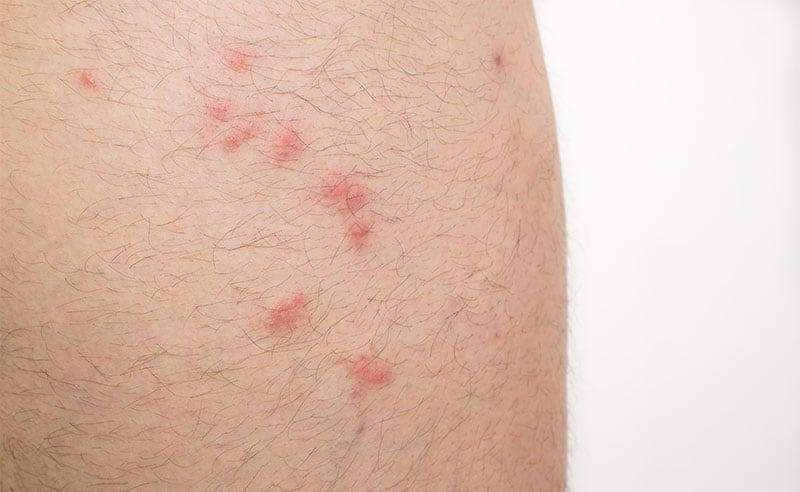Fleas: (312, 164, 374, 225), (260, 286, 315, 341), (341, 345, 396, 396), (215, 114, 268, 155), (269, 126, 307, 164), (342, 219, 372, 252), (68, 68, 116, 85), (224, 48, 255, 70), (212, 104, 240, 126)
